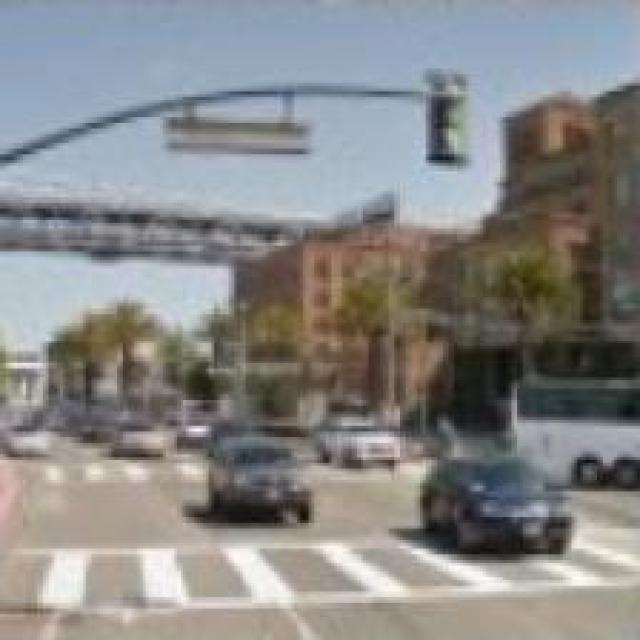zebra: (15, 514, 640, 614)
